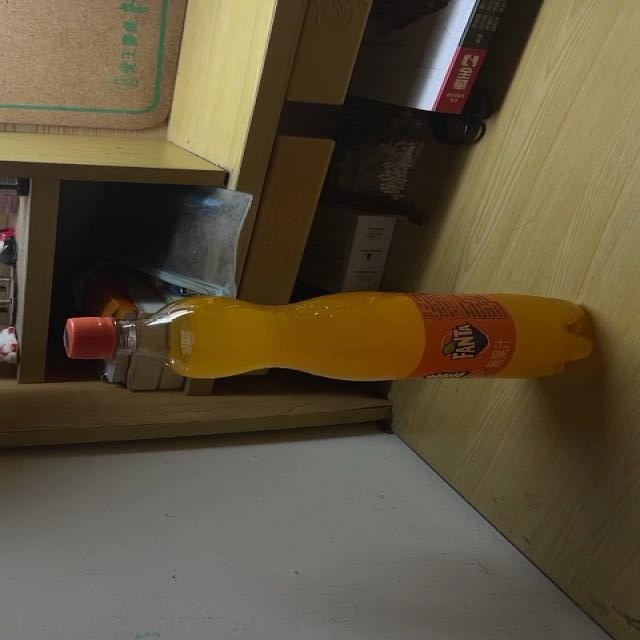Fanta: (66, 290, 594, 381)
